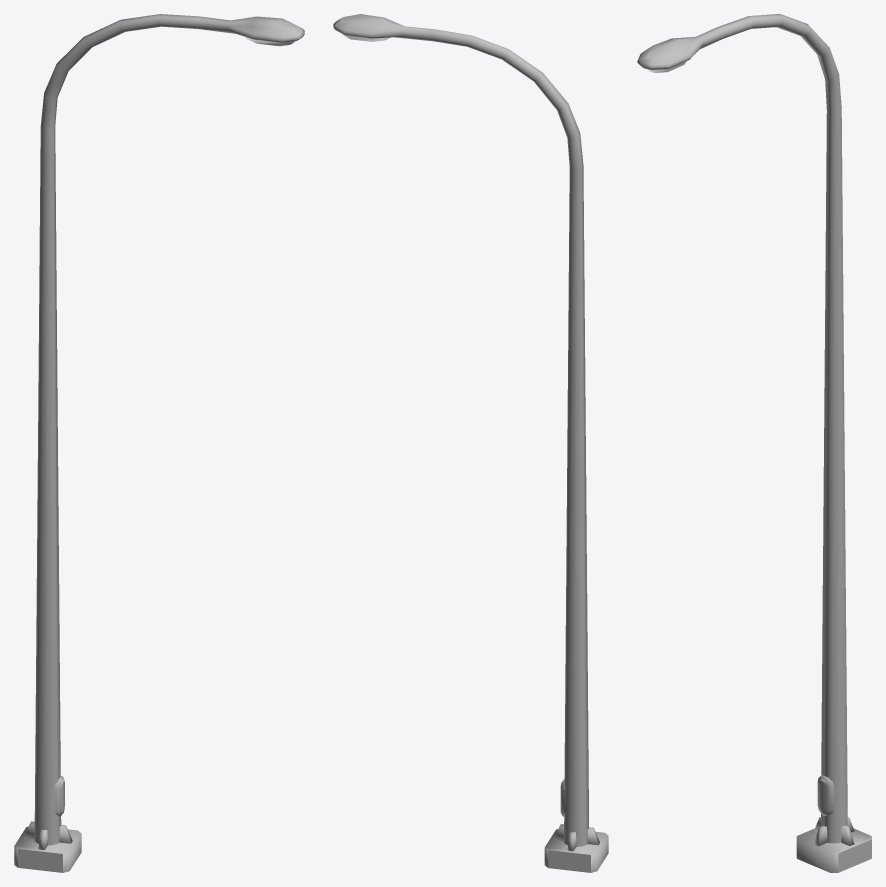
Rendered from nc_prop_lamp_small_01.fbx.
3 views of the same model, side by side, from view 1: azimuth 30°, elevation 25°; view 2: azimuth 210°, elevation 25°; view 3: azimuth 270°, elevation 25° (orthographic). The views are drawn at different scales.
Visible parts, largest first — view 1: nc_prop_lamp_small_01_LOD0; view 2: nc_prop_lamp_small_01_LOD0; view 3: nc_prop_lamp_small_01_LOD0.
Boxes of the visible parts, x1=… form: nc_prop_lamp_small_01_LOD0: x1=14, y1=14, x2=304, y2=872; nc_prop_lamp_small_01_LOD0: x1=333, y1=14, x2=608, y2=872; nc_prop_lamp_small_01_LOD0: x1=637, y1=14, x2=871, y2=872.
Size of what is drawn, in the model's own units: 0.82 by 3.4 by 0.82.
Materials: 1 (1 with a texture image).
